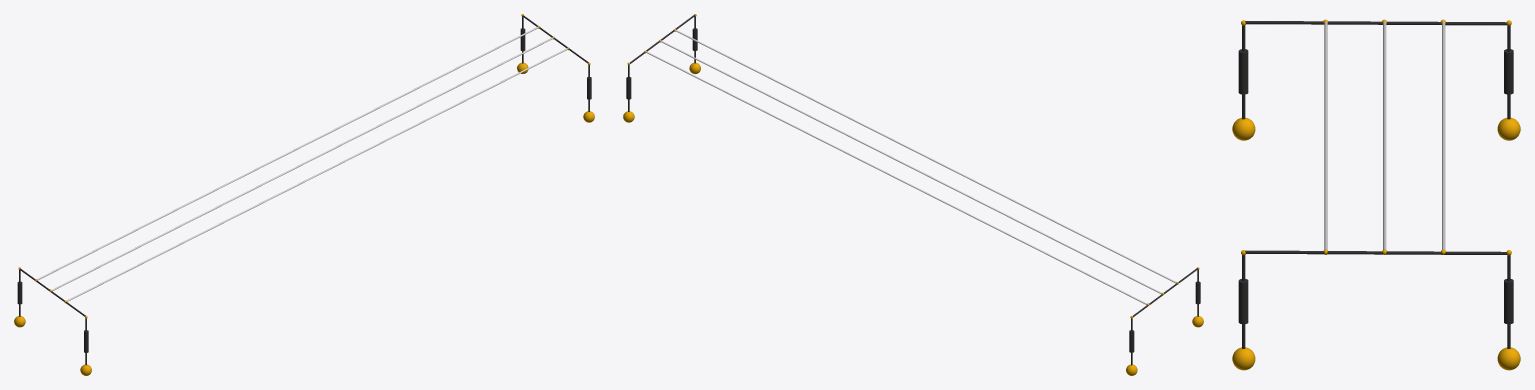
File: obs.fbx
3 renders of one model, left to right at view 1: azimuth 30°, elevation 25°; view 2: azimuth 150°, elevation 25°; view 3: azimuth 270°, elevation 25°, orthographic. The views are drawn at different scales.
Visible parts, largest first — view 1: polySurface451, polySurface420, polySurface452, polySurface433, polySurface453; view 2: polySurface420, polySurface451, polySurface452, polySurface433, polySurface453; view 3: polySurface453, polySurface433, polySurface420, polySurface451, polySurface452.
Part boxes in pixels (x1,y1,x2,y2): polySurface451: (49, 36, 554, 292); polySurface420: (35, 26, 539, 281); polySurface452: (64, 47, 569, 302); polySurface433: (14, 267, 91, 375); polySurface453: (517, 14, 594, 122); polySurface420: (644, 50, 1149, 305); polySurface451: (659, 39, 1164, 295); polySurface452: (674, 29, 1178, 284); polySurface433: (1126, 267, 1203, 375); polySurface453: (623, 14, 700, 122); polySurface453: (1232, 250, 1520, 370); polySurface433: (1232, 20, 1520, 140); polySurface420: (1440, 19, 1445, 254); polySurface451: (1382, 19, 1386, 254); polySurface452: (1323, 19, 1327, 254).
Bounding box in the file's own units: 18.57 × 6.58 × 4.52.
